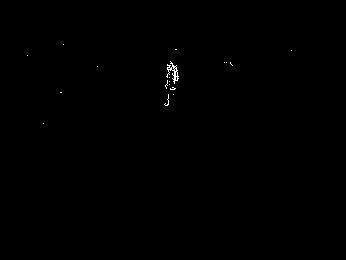person: (163, 62, 180, 104)
